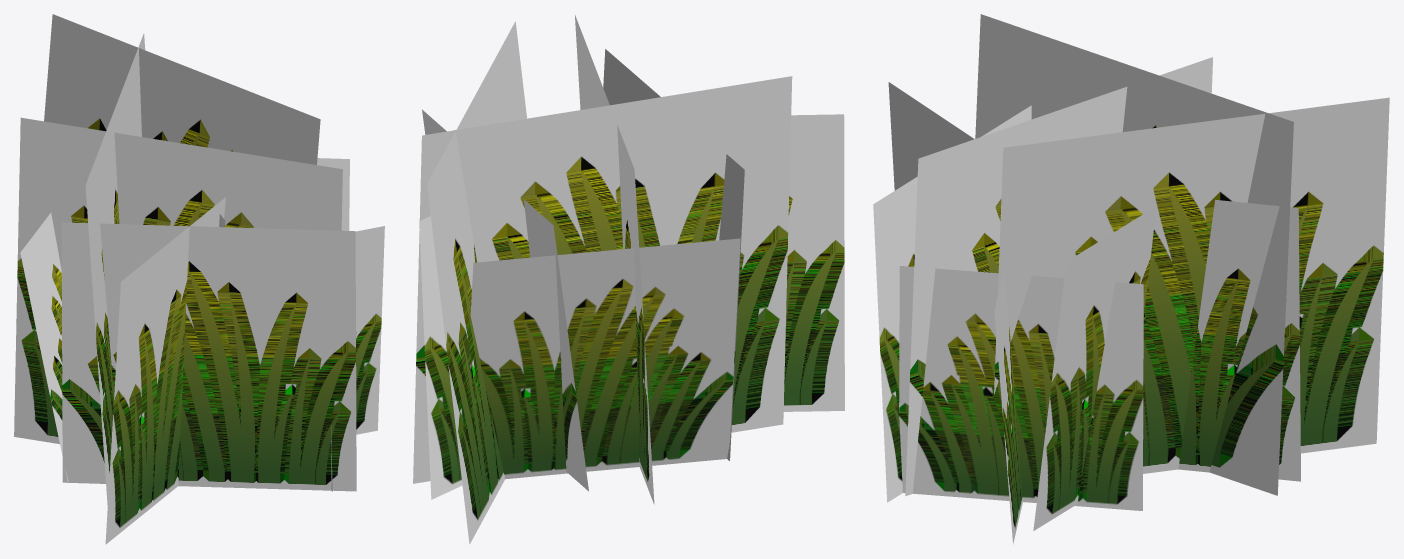
The model's file is low_grass_10.gltf.
3 renders of one model, left to right at view 1: azimuth 30°, elevation 25°; view 2: azimuth 150°, elevation 25°; view 3: azimuth 270°, elevation 25°, orthographic. The views are drawn at different scales.
Parts seen in each view (by area): view 1: default; view 2: default; view 3: default.
Part boxes in pixels (left/top/right/bottom): default: left=14, top=14, right=384, bottom=544; default: left=413, top=15, right=844, bottom=544; default: left=873, top=14, right=1389, bottom=544.
Bounding box in the file's own units: 0.8227 × 0.8109 × 1.04.
1 material, 1 textured.
